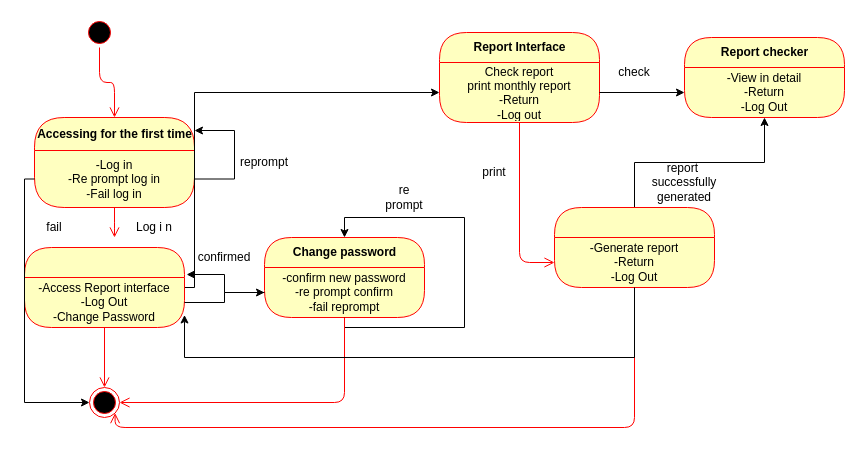
The diagram is 862 pixels wide and 455 high, and some of its shapes have lost their labels. Here are the shapes that lost their labels. From the top down, the box of each, then its label:
(554, 206, 714, 288): Report Maker
(24, 246, 184, 328): Logged in (waiting)
